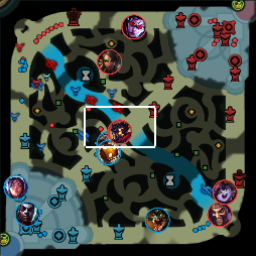bard: (97, 141, 119, 163)
draven: (206, 200, 232, 226)
ekko: (15, 201, 37, 224)
irelia: (4, 175, 28, 199)
lulu: (212, 179, 237, 204)
nidalee: (97, 48, 121, 73)
renekton: (145, 207, 170, 231)
vayne: (122, 15, 146, 38)
viktor: (107, 118, 132, 144)
